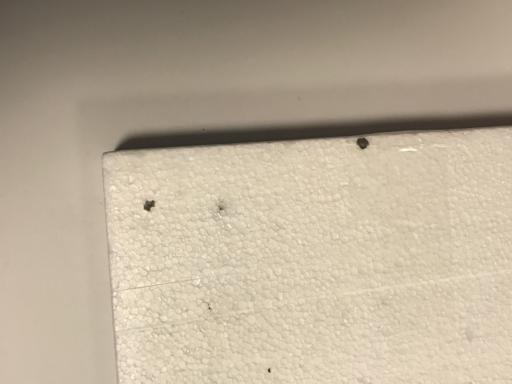trash: (101, 106, 510, 384)
